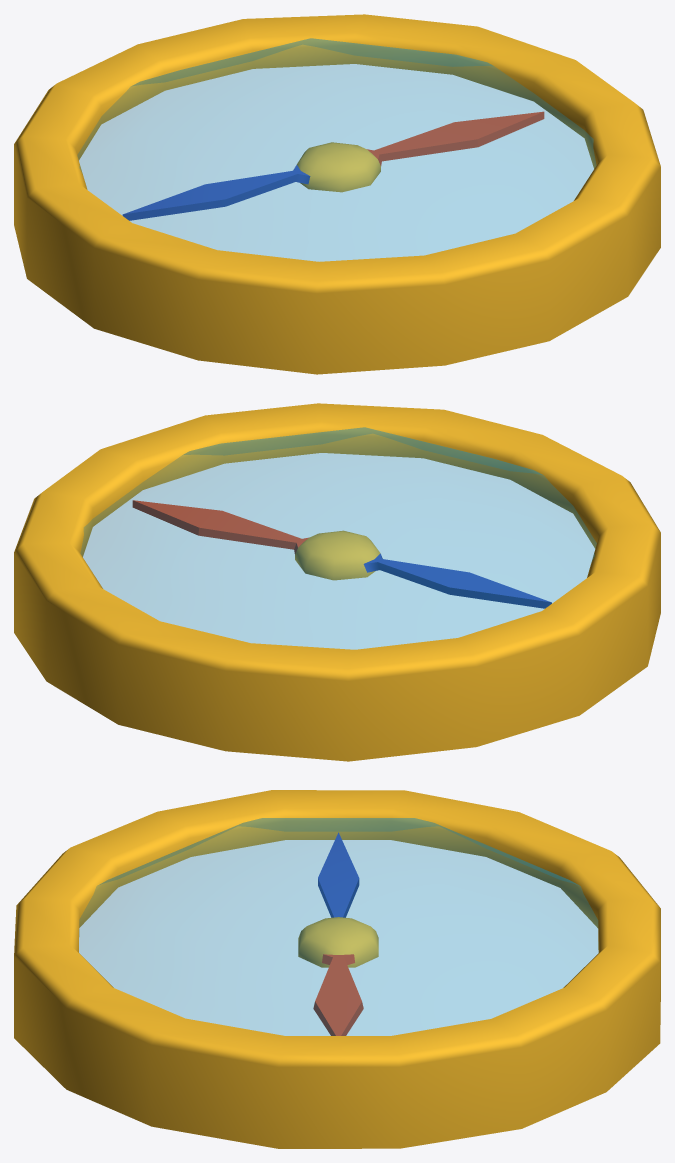
Rendered from Dial.fbx.
The picture shows the model from 3 angles, top to bottom: view 1: azimuth 30°, elevation 25°; view 2: azimuth 150°, elevation 25°; view 3: azimuth 270°, elevation 25°; orthographic projection.
Parts seen in each view (by area): view 1: Dial; view 2: Dial; view 3: Dial.
Boxes of the visible parts, x1,y1,x2,y2 form: Dial: (14,14,660,374); Dial: (14,403,660,761); Dial: (14,790,660,1148).
Bounding box in the file's own units: 233 × 60.36 × 233.
